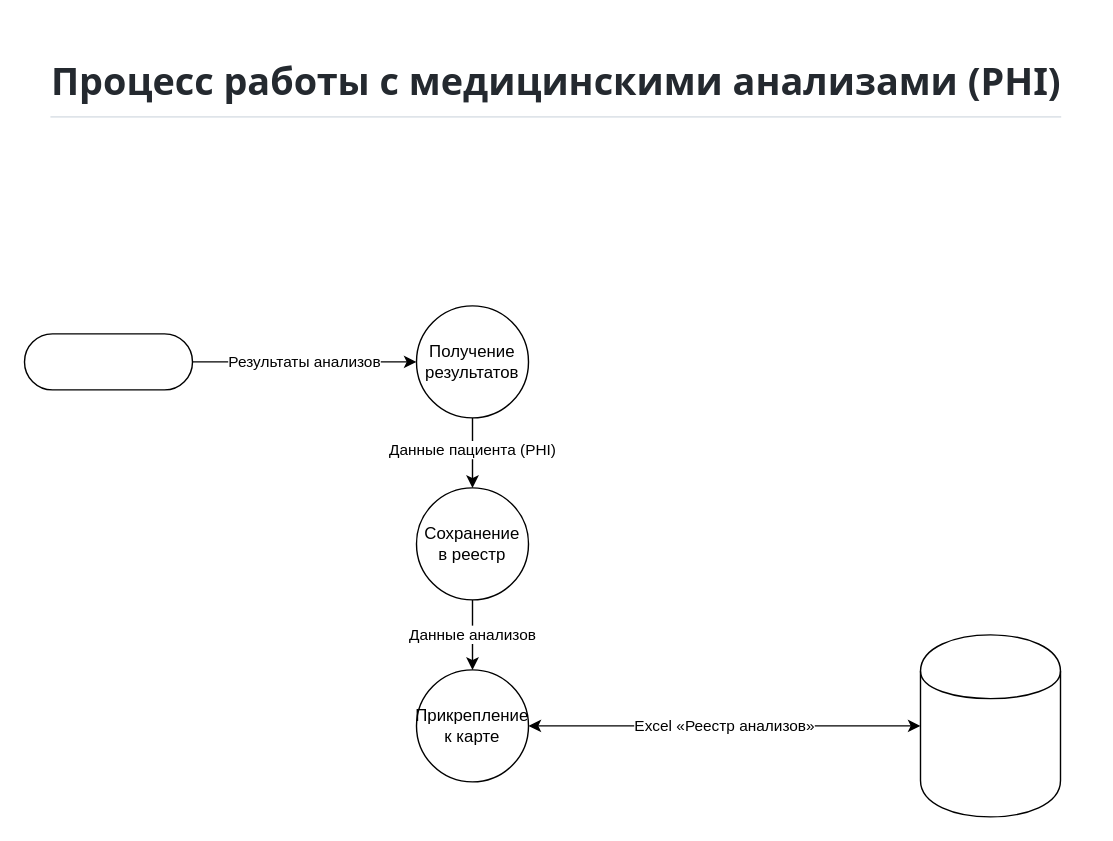
This 1113x841 diagram has some shape labels left out. The shapes that lost their labels are listed below. From the top down, each one's centre as x and y in pixels, then its label:
At pixel 107 361: "Лаборатория".
At pixel 989 725: "общедоступный диск".
